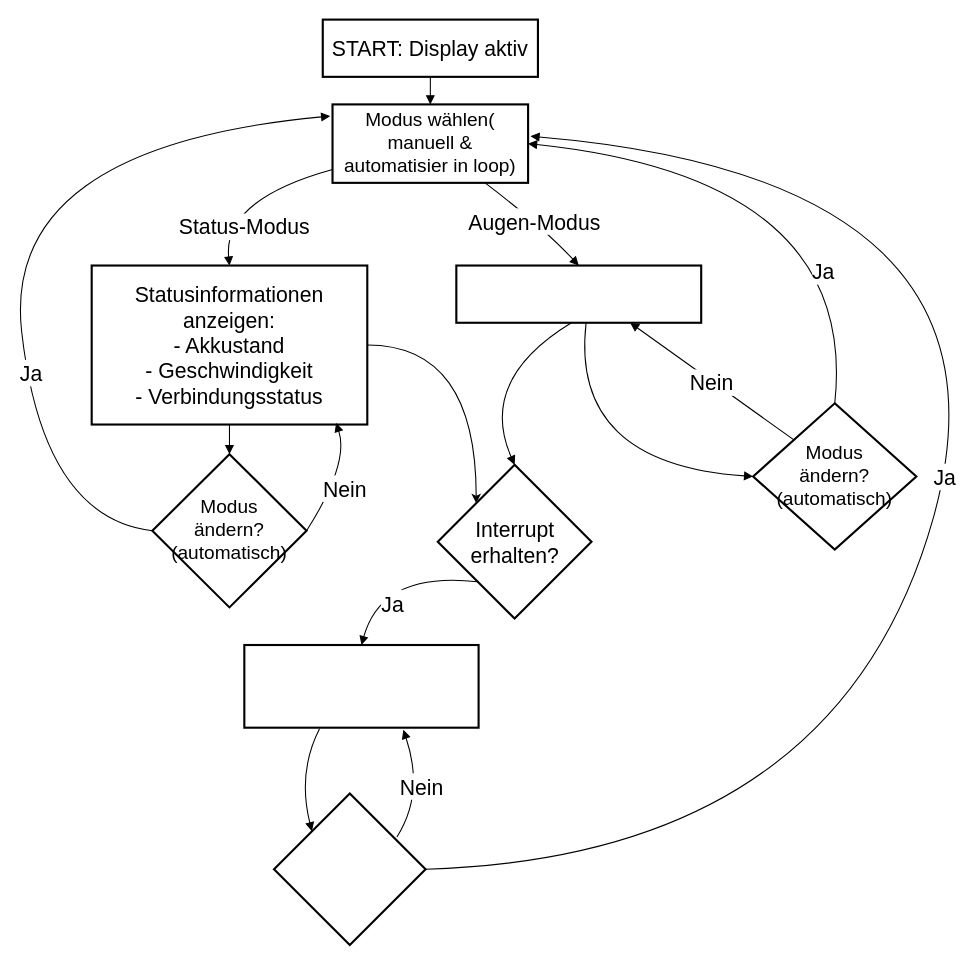
This 975x964 diagram has some shape labels left out. The shapes that lost their labels are listed below. From the top down, each one's centre as x and y in pixels, then its label:
the point at 578,293: Augenanimation starten
the point at 361,685: Zusätzliche Funktion x ausführen
the point at 349,869: Interrupt beendet?
